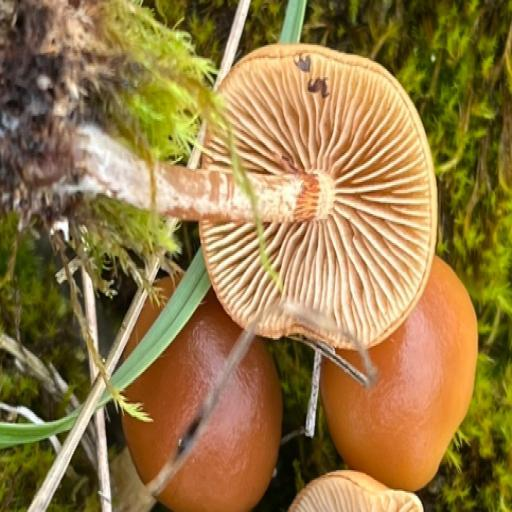mushroom: (172, 22, 474, 512)
